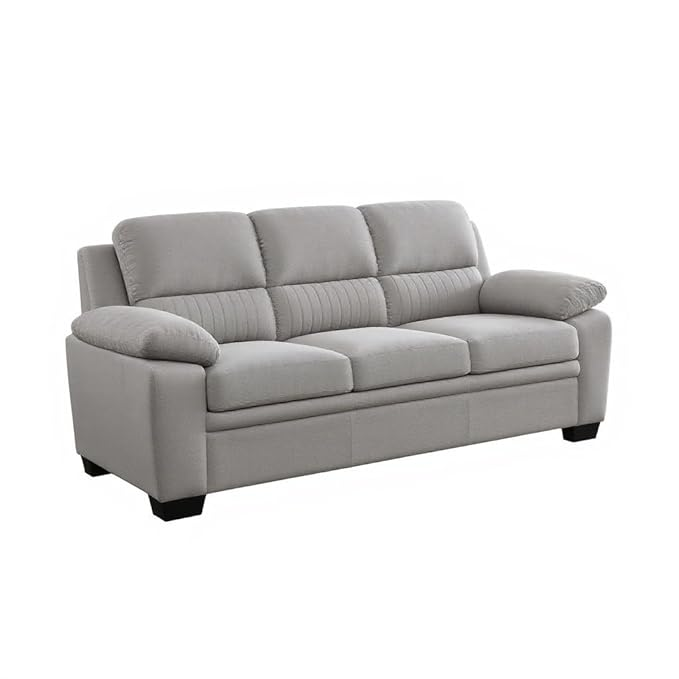backrest: (82, 200, 492, 340)
base: (210, 365, 578, 492)
leftarmrest: (485, 268, 607, 423)
leg: (152, 495, 205, 530), (568, 422, 600, 448), (73, 462, 102, 482)
rightarmrest: (68, 302, 215, 503)
seat: (208, 313, 582, 407)
